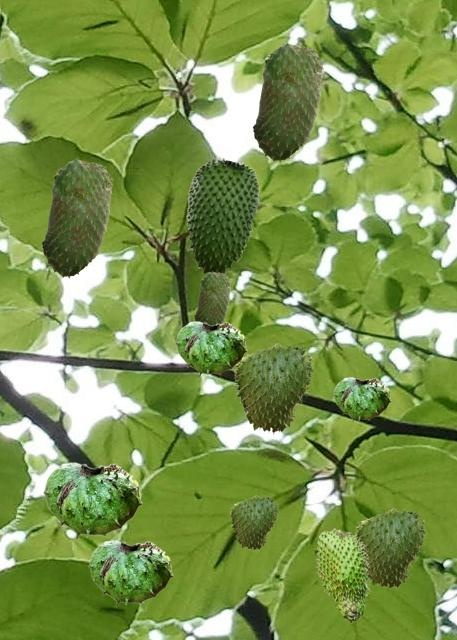guyabano: (41, 158, 112, 277), (252, 42, 323, 161), (186, 157, 258, 274), (43, 462, 141, 539), (234, 343, 314, 434), (355, 508, 426, 589), (88, 540, 172, 606), (315, 528, 370, 622), (175, 321, 246, 376), (230, 495, 278, 550), (333, 377, 390, 421), (194, 271, 230, 324)
